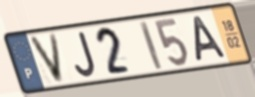2: (94, 25, 136, 79)
5: (152, 16, 191, 68)
A: (192, 14, 229, 64)
I: (137, 19, 165, 72)
J: (73, 30, 98, 79)
V: (26, 32, 66, 86)
